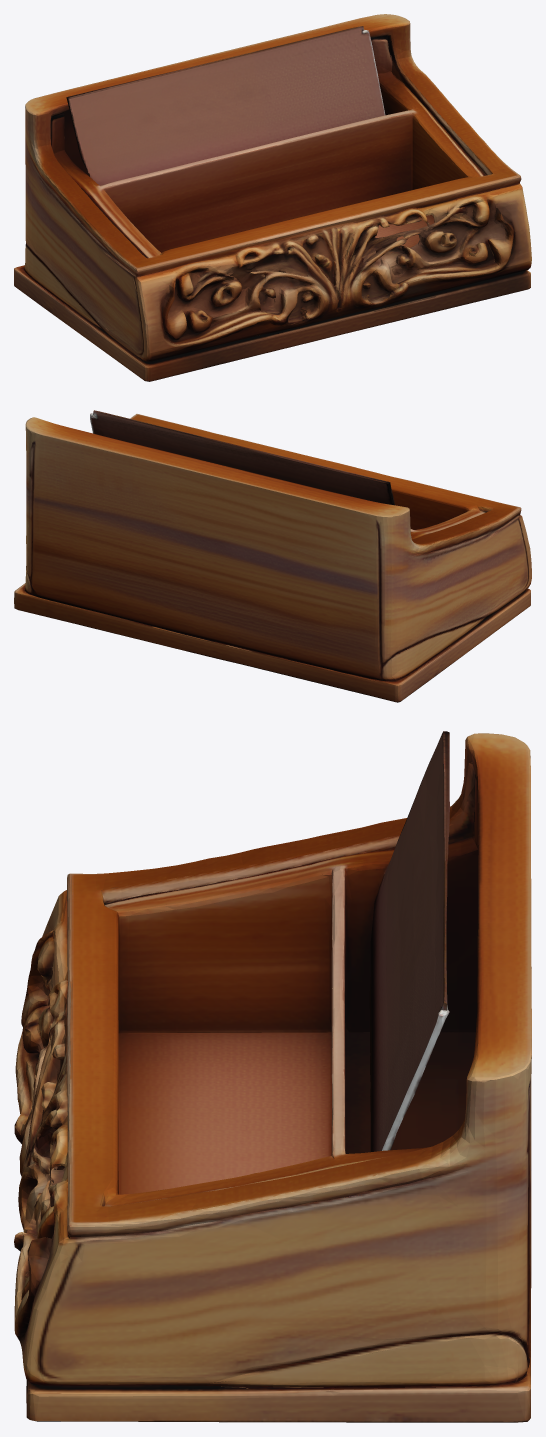
The model's file is wooden-business-card-holder-3d.jpeg.glb.
The picture shows the model from 3 angles, top to bottom: view 1: azimuth 30°, elevation 25°; view 2: azimuth 150°, elevation 25°; view 3: azimuth 270°, elevation 25°; orthographic projection. The views are drawn at different scales.
Parts seen in each view (by area): view 1: world; view 2: world; view 3: world.
Part boxes in pixels (box(x1,y1,x2,y2)): world: box(14, 14, 531, 381); world: box(14, 410, 531, 702); world: box(14, 731, 531, 1422).
Size of the model in its own units: 1 by 0.487 by 0.6195.
1 material, 1 textured.
